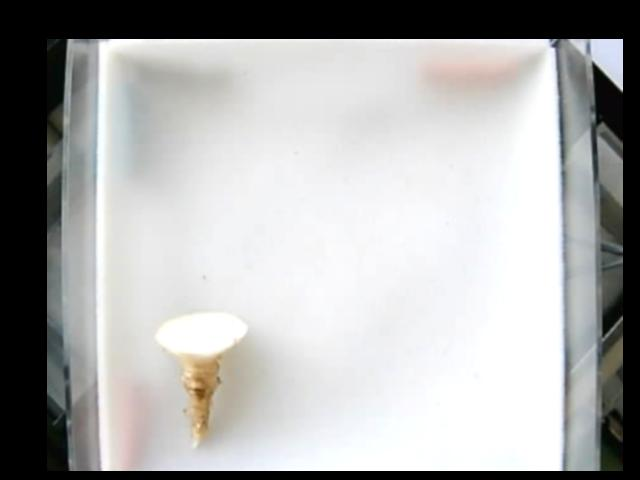Mooli: (153, 314, 247, 452)
